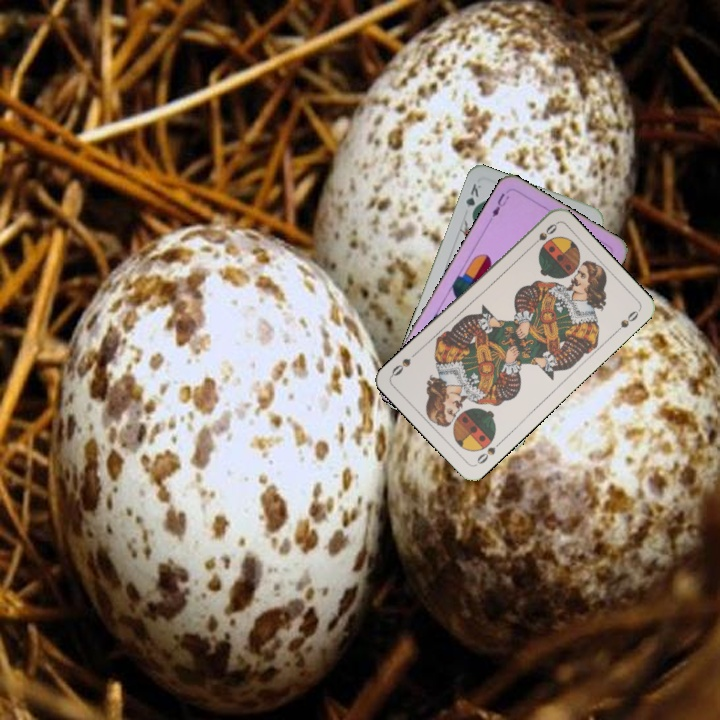EU: (488, 189, 512, 220)
GK: (462, 179, 484, 219)
SO: (526, 220, 560, 251), (472, 437, 505, 468)
